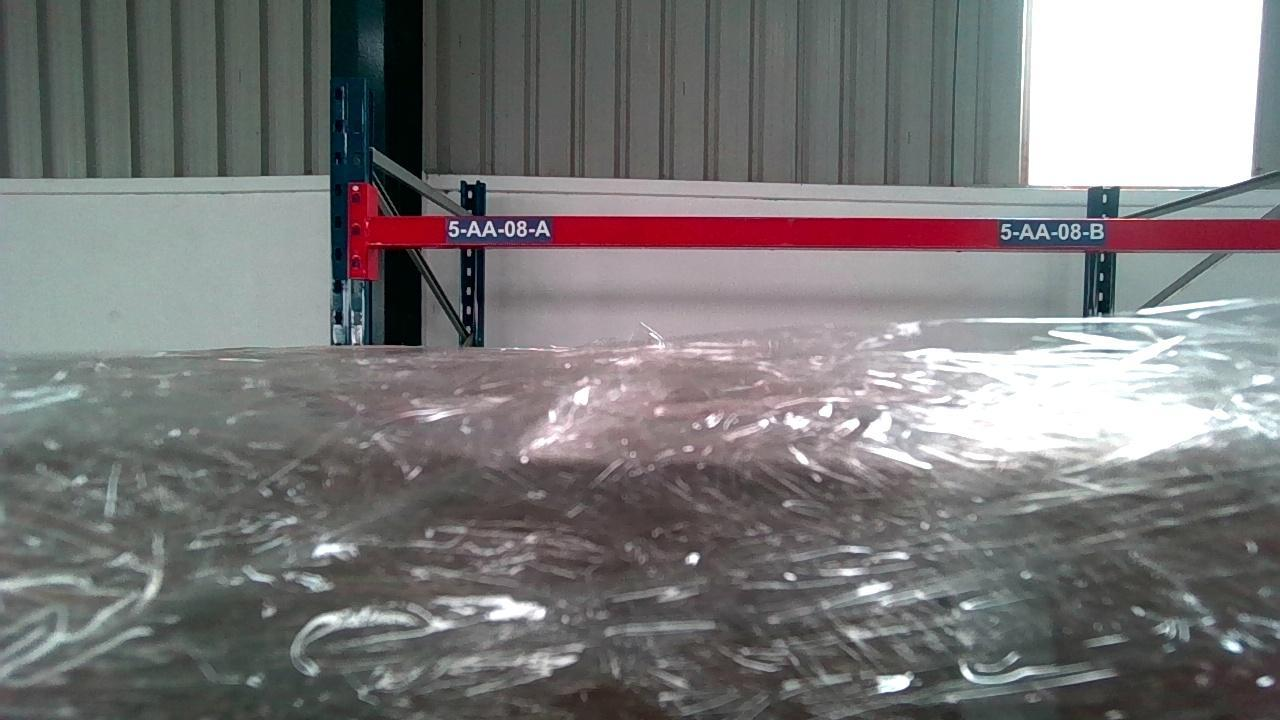h_rack: (371, 212, 1280, 251)
